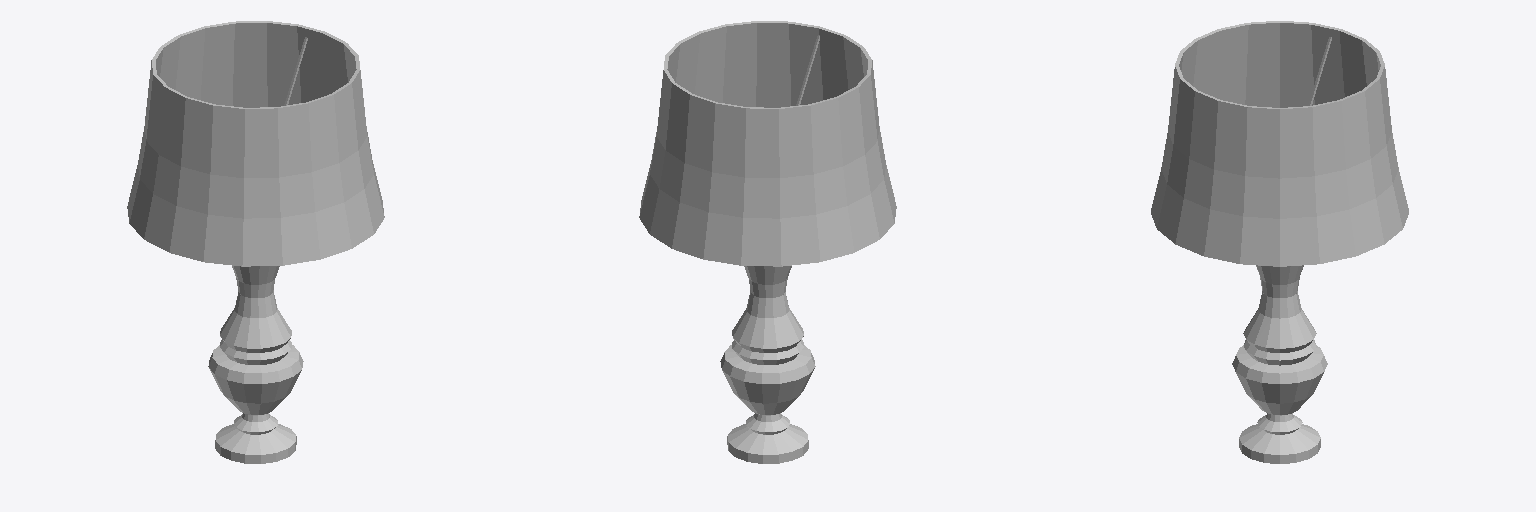
3 renders of one model, left to right at view 1: azimuth 30°, elevation 25°; view 2: azimuth 150°, elevation 25°; view 3: azimuth 270°, elevation 25°, orthographic.
Visible parts, largest first — view 1: eb_lamp_01_low_c_low, eb_lamp_01_low_b_low; view 2: eb_lamp_01_low_c_low, eb_lamp_01_low_b_low; view 3: eb_lamp_01_low_c_low, eb_lamp_01_low_b_low.
Part boxes in pixels (x1,y1,x2,y2): eb_lamp_01_low_c_low: (127,21,384,266); eb_lamp_01_low_b_low: (208,266,303,463); eb_lamp_01_low_c_low: (639,21,896,266); eb_lamp_01_low_b_low: (720,266,815,463); eb_lamp_01_low_c_low: (1151,21,1408,266); eb_lamp_01_low_b_low: (1232,265,1327,463).
Bounding box in the file's own units: 47.81 × 77.83 × 47.81.